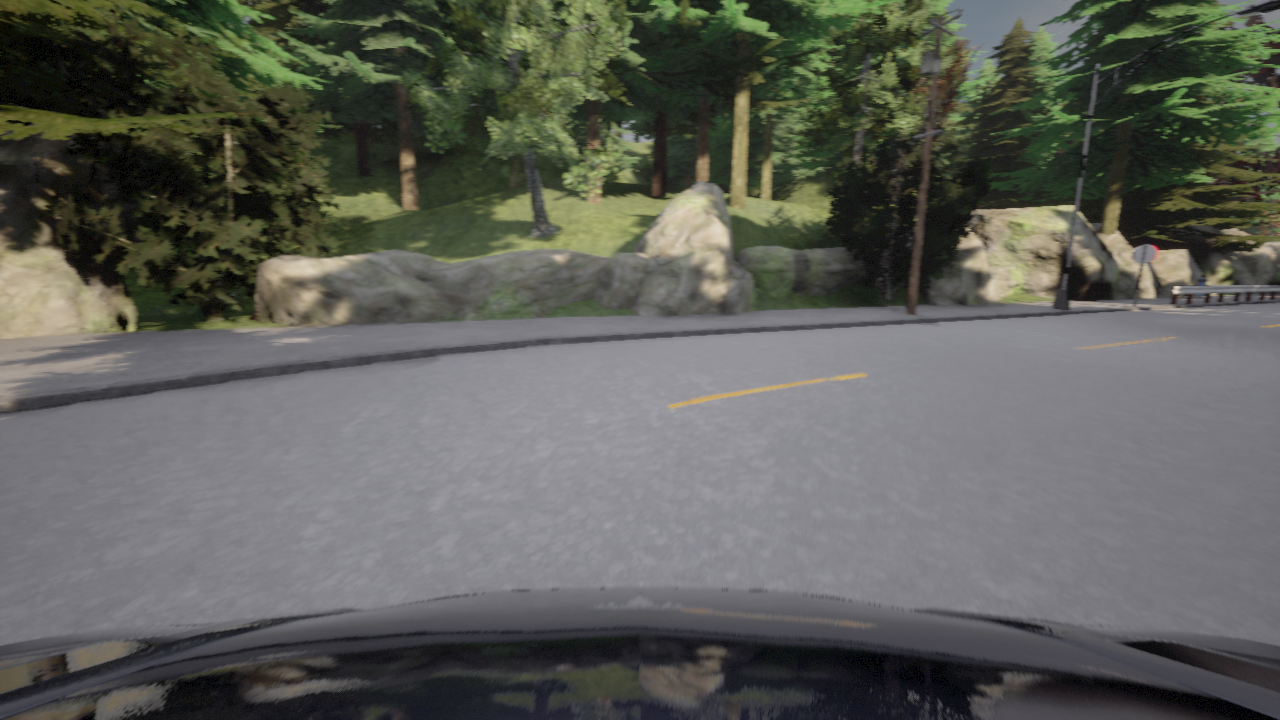cyclist: (0, 588, 1279, 719)
pedestrian: (1196, 275, 1207, 297)
